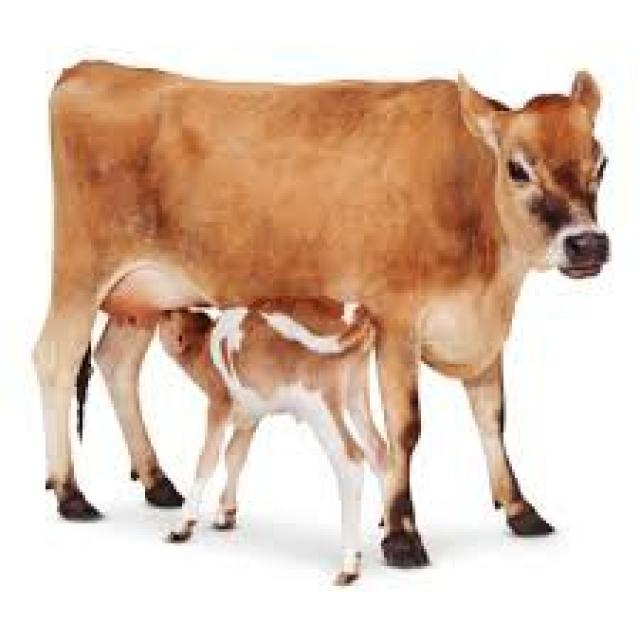cow: (84, 71, 622, 279)
